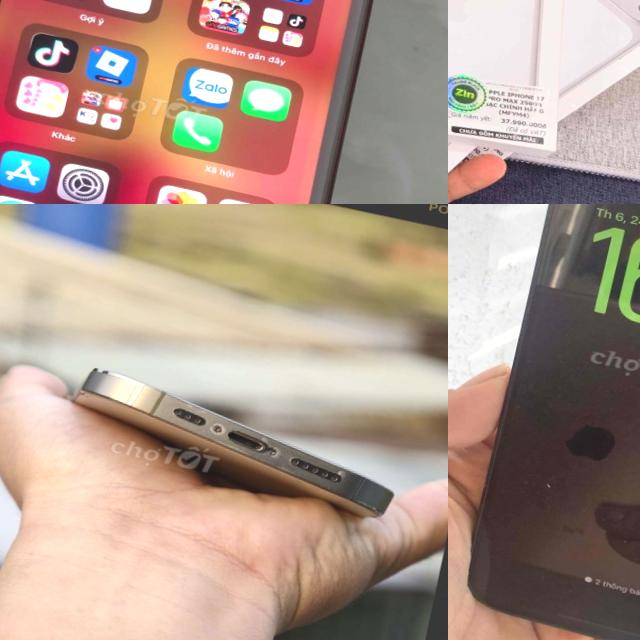physical_damage: (347, 491, 392, 525), (72, 383, 120, 407)
scratch: (161, 391, 223, 422), (250, 432, 292, 472), (532, 470, 559, 499), (202, 415, 226, 436), (328, 467, 348, 482)
